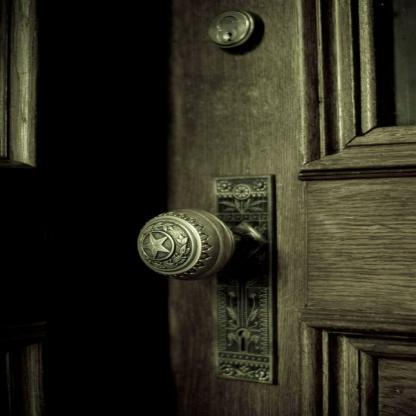door: (130, 0, 416, 415)
knob: (130, 207, 235, 287)
